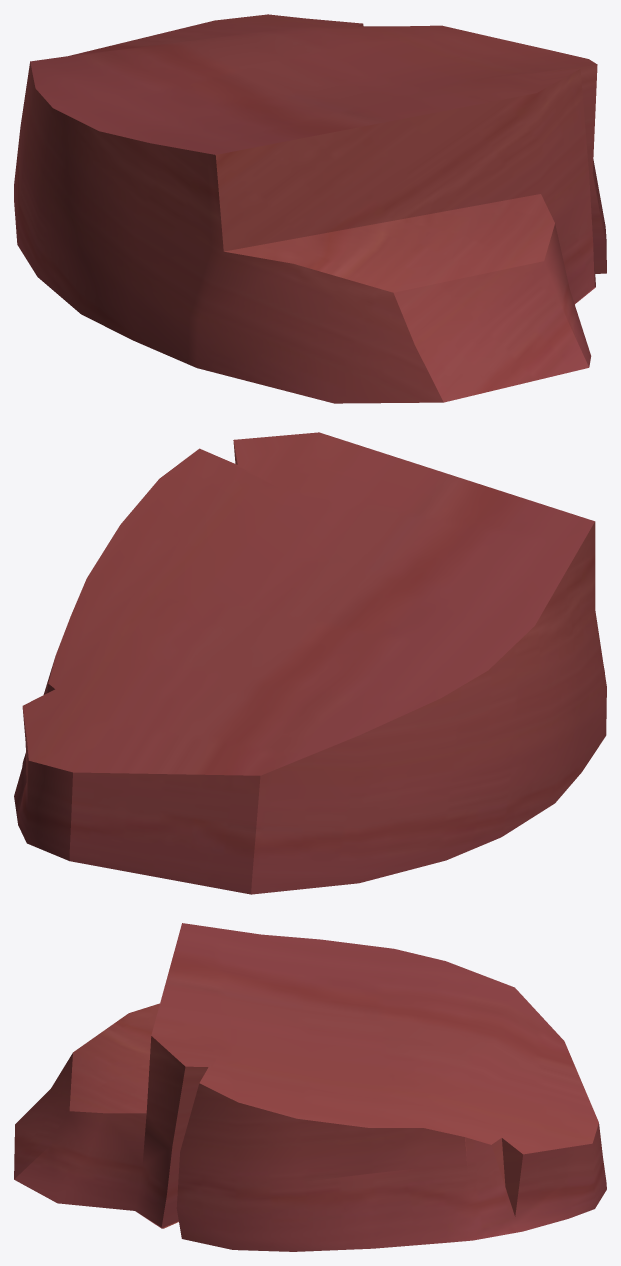
Rendered from SM_LStone_02.fbx.
3 views of the same model, one above another, from view 1: azimuth 30°, elevation 25°; view 2: azimuth 150°, elevation 25°; view 3: azimuth 270°, elevation 25° (orthographic). The views are drawn at different scales.
Visible parts, largest first — view 1: SM_LStone_02; view 2: SM_LStone_02; view 3: SM_LStone_02.
Part boxes in pixels (box(x1,y1,x2,y2)): SM_LStone_02: box(14, 14, 606, 403); SM_LStone_02: box(14, 432, 606, 894); SM_LStone_02: box(14, 923, 606, 1251).
Size of the model in its own units: 1052 by 460 by 1455.
